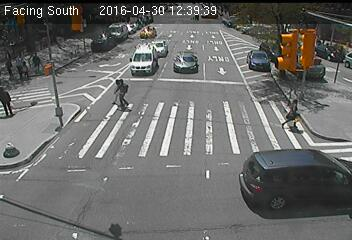neg: (331, 63, 346, 83), (142, 23, 152, 36), (325, 43, 334, 55), (267, 39, 275, 50)
pos: (279, 95, 306, 132), (111, 76, 136, 110), (28, 50, 46, 73), (108, 80, 125, 102), (16, 60, 31, 80)
